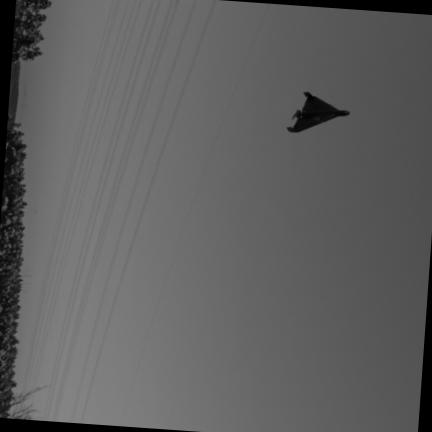Shahed: (286, 92, 348, 132)
